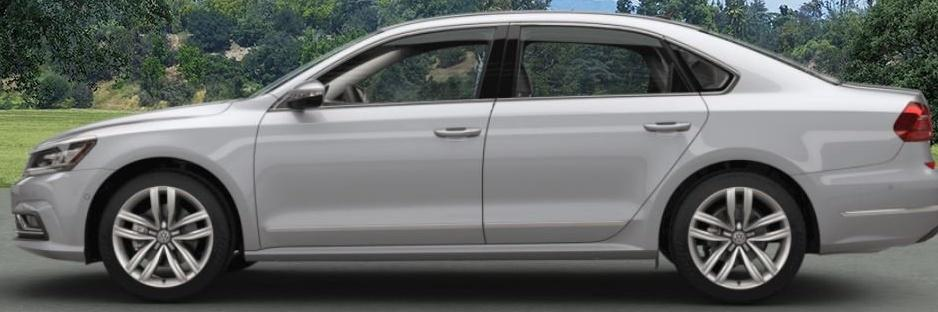Cars: (12, 14, 938, 303)
